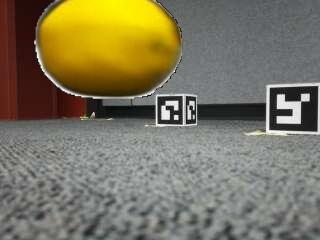lemon: (39, 1, 182, 97)
